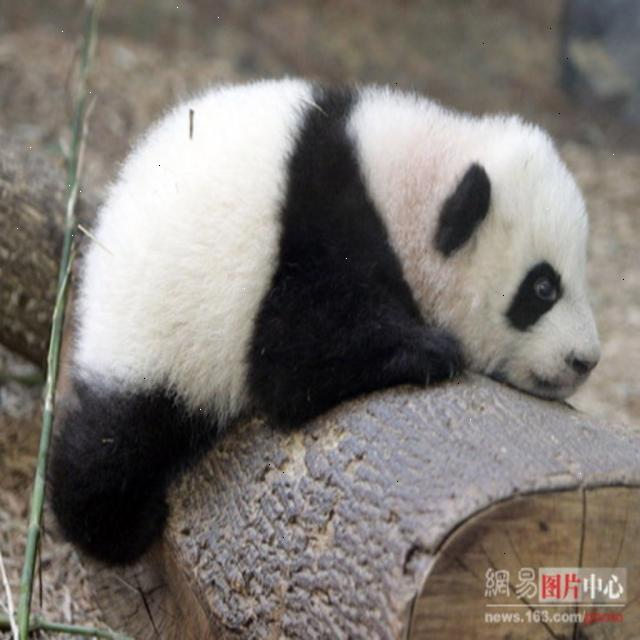panda: (36, 77, 616, 577)
